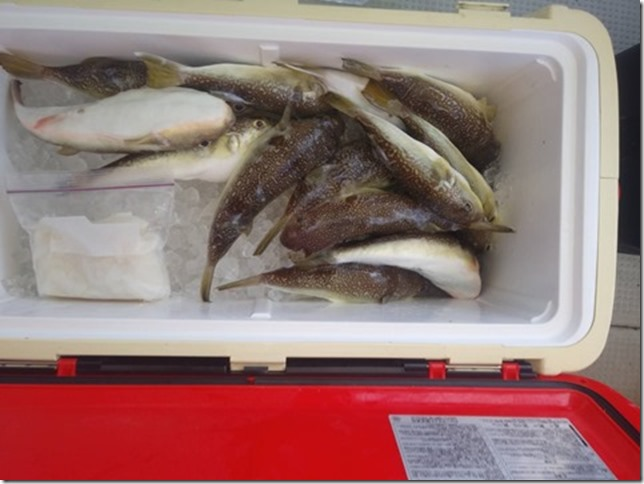kiss: (9, 79, 231, 149)
